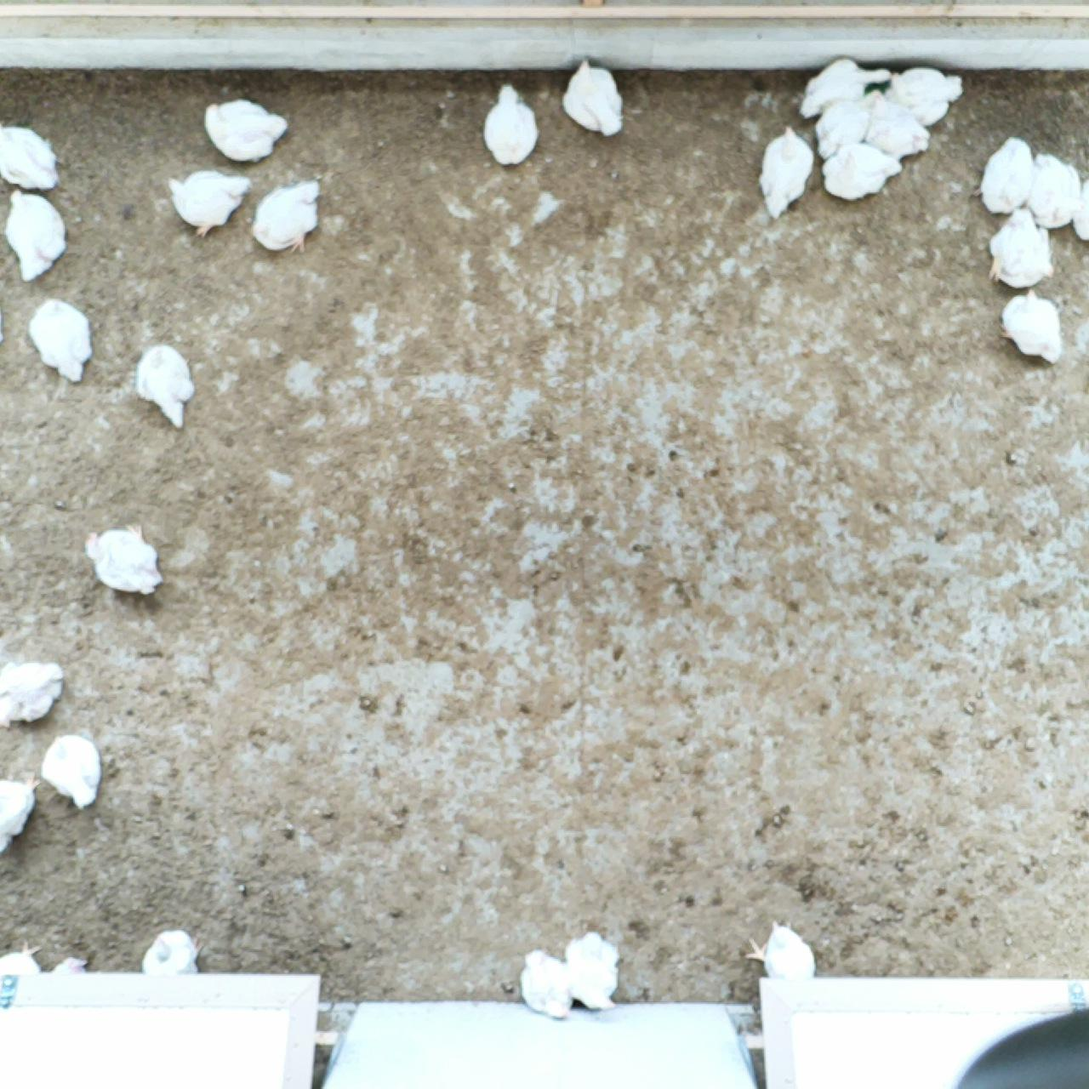chicken: (0, 181, 70, 281), (162, 167, 255, 239), (746, 919, 822, 1007), (79, 520, 165, 596), (797, 55, 893, 123), (986, 205, 1057, 296), (250, 174, 323, 258), (201, 97, 291, 165), (26, 296, 96, 383), (560, 56, 629, 140), (997, 287, 1067, 368), (138, 928, 205, 1012), (561, 928, 623, 1017), (756, 124, 814, 217), (878, 67, 967, 127), (1018, 148, 1079, 235), (36, 734, 104, 812), (136, 344, 197, 430), (851, 94, 930, 159), (814, 85, 883, 159), (818, 144, 905, 202), (0, 656, 63, 733), (485, 79, 540, 167), (0, 118, 63, 191), (977, 135, 1031, 217), (517, 948, 575, 1021), (31, 952, 99, 1013), (0, 938, 48, 1014), (0, 771, 35, 859), (1067, 174, 1089, 246)
